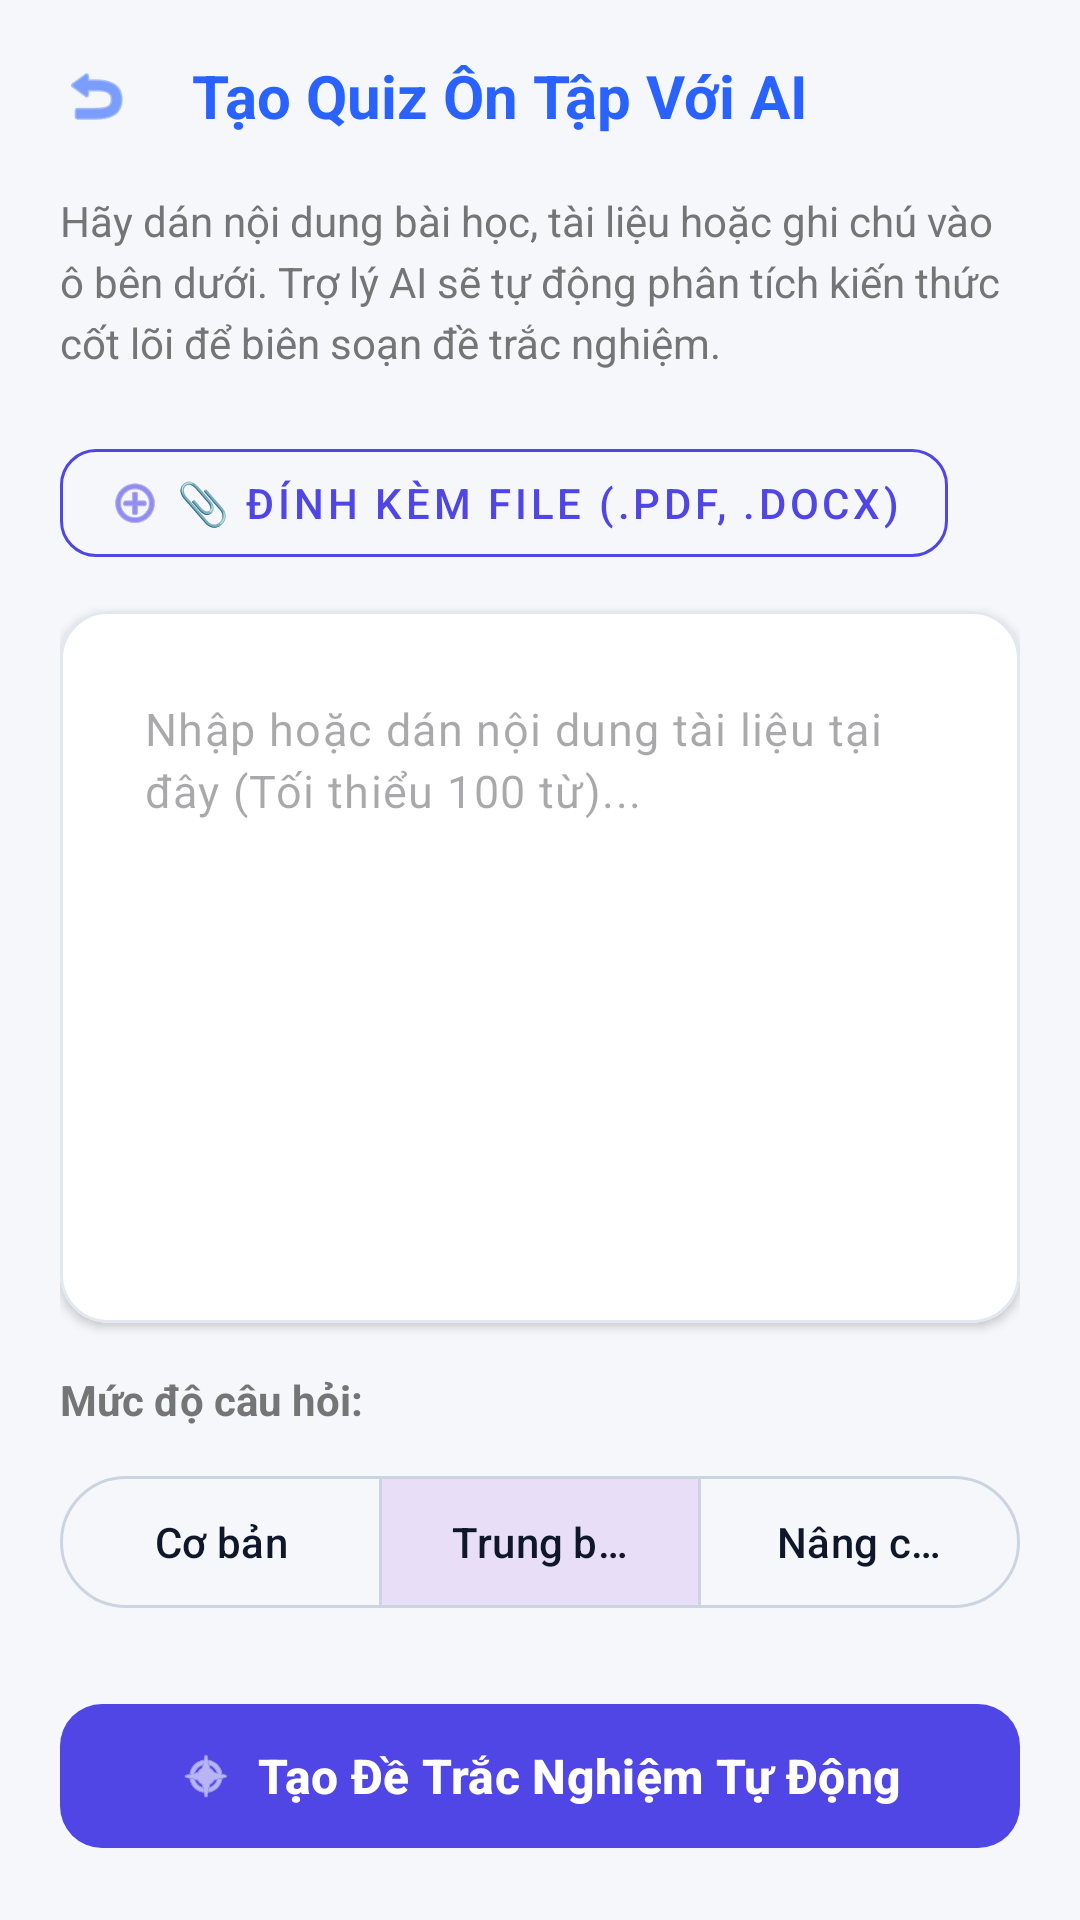

Where icons sit on this 1080 × 1920 app screen, as (x1, y1, x2, y2):
revert: (71, 73, 123, 120)
